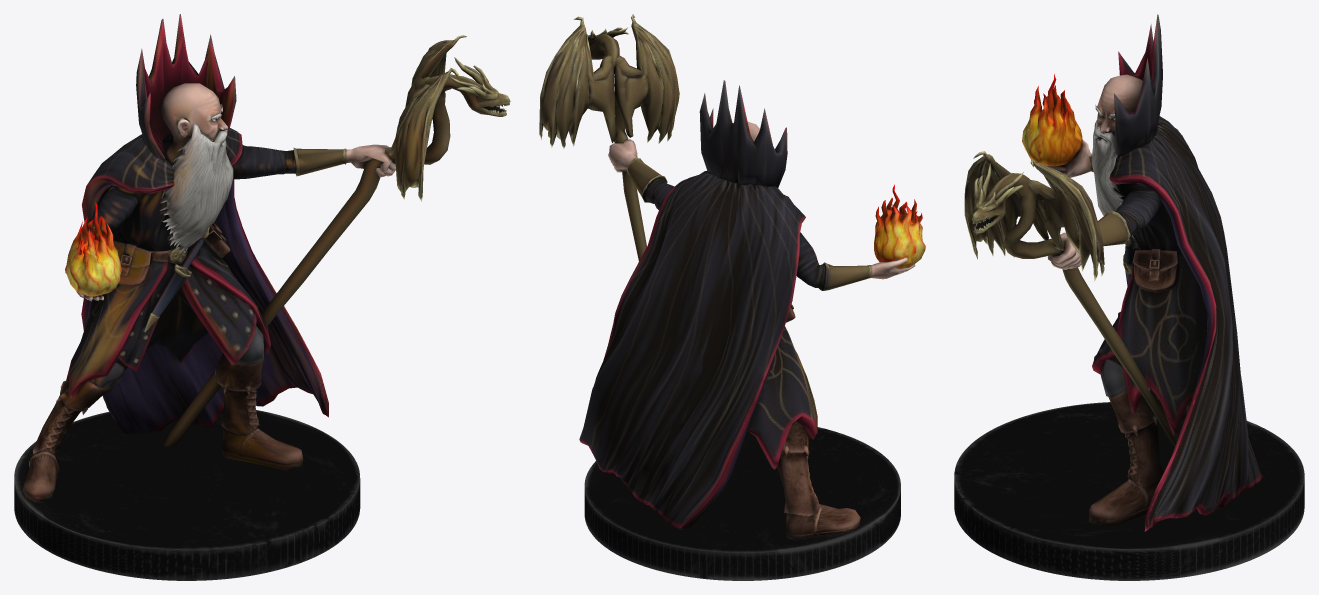
File: MZ4250 - Human Sorcerer (Kelek) .glb
3 renders of one model, left to right at view 1: azimuth 30°, elevation 25°; view 2: azimuth 150°, elevation 25°; view 3: azimuth 270°, elevation 25°, orthographic. The views are drawn at different scales.
Parts seen in each view (by area): view 1: base_low.001, body_low.001, cape_low.001, staff_low.001, beard_low.001, wings_low.001, fire_low.001, pouch_low.001, dagger_low.001; view 2: cape_low.001, base_low.001, body_low.001, wings_low.001, fire_low.001, staff_low.001; view 3: base_low.001, cape_low.001, body_low.001, wings_low.001, staff_low.001, fire_low.001, beard_low.001, pouch_low.001.
Boxes of the visible parts, bbox=[...] form: base_low.001: bbox=[14, 410, 360, 580]; body_low.001: bbox=[23, 83, 395, 501]; cape_low.001: bbox=[81, 14, 328, 433]; staff_low.001: bbox=[163, 57, 510, 446]; beard_low.001: bbox=[160, 124, 233, 252]; wings_low.001: bbox=[389, 35, 466, 201]; fire_low.001: bbox=[65, 202, 121, 296]; pouch_low.001: bbox=[113, 223, 230, 286]; dagger_low.001: bbox=[144, 227, 209, 332]; cape_low.001: bbox=[579, 80, 805, 528]; base_low.001: bbox=[584, 427, 900, 580]; body_low.001: bbox=[608, 122, 915, 538]; wings_low.001: bbox=[539, 14, 679, 148]; fire_low.001: bbox=[874, 184, 925, 268]; staff_low.001: bbox=[587, 27, 646, 261]; base_low.001: bbox=[954, 402, 1304, 580]; cape_low.001: bbox=[1109, 14, 1262, 531]; body_low.001: bbox=[1047, 74, 1207, 525]; wings_low.001: bbox=[964, 151, 1104, 281]; staff_low.001: bbox=[972, 163, 1180, 446]; fire_low.001: bbox=[1022, 74, 1082, 166]; beard_low.001: bbox=[1092, 120, 1138, 249]; pouch_low.001: bbox=[1132, 248, 1179, 292].
Bounding box in the file's own units: 5.33 × 6.08 × 3.95.
1 material, 1 textured.
